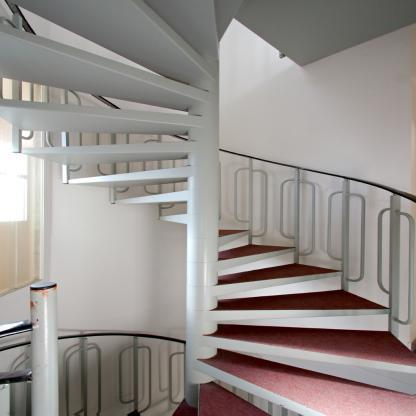stair: (198, 196, 416, 416)
